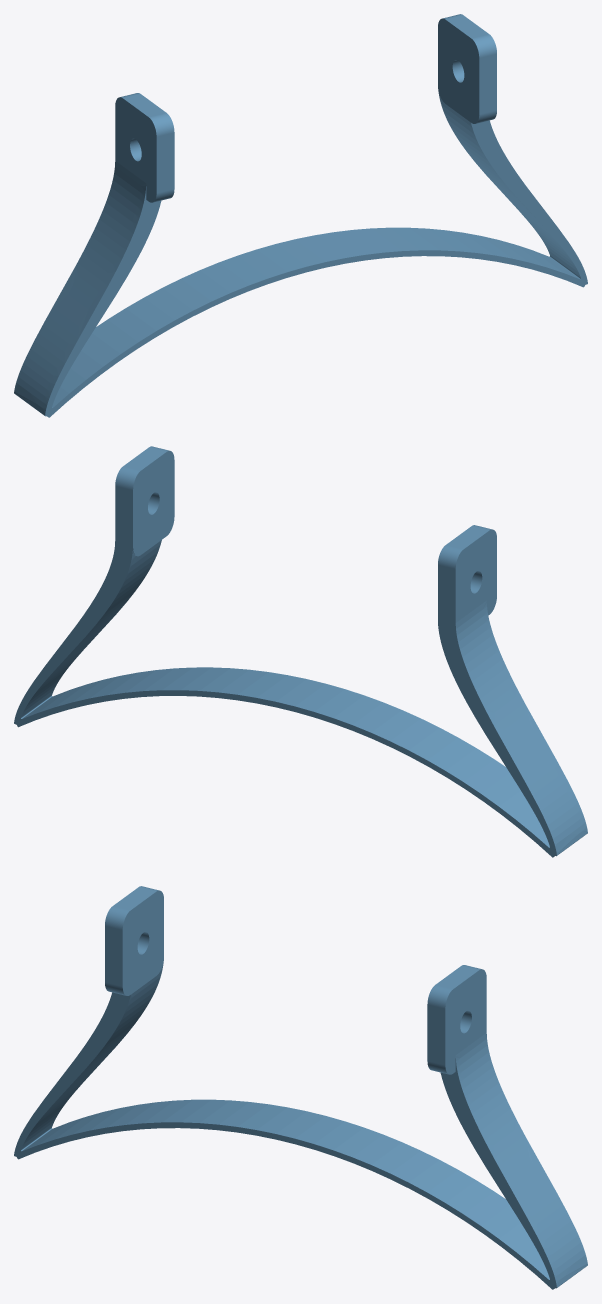
The model's file is BOZZA_R03_NON_USO.glb.
The picture shows the model from 3 angles, top to bottom: view 1: azimuth 30°, elevation 25°; view 2: azimuth 150°, elevation 25°; view 3: azimuth 330°, elevation 25°; orthographic projection.
Visible parts, largest first — view 1: BOZZA_R03_NON_USO.stl; view 2: BOZZA_R03_NON_USO.stl; view 3: BOZZA_R03_NON_USO.stl.
Boxes of the visible parts, x1=… form: BOZZA_R03_NON_USO.stl: x1=14, y1=14, x2=587, y2=417; BOZZA_R03_NON_USO.stl: x1=14, y1=446, x2=587, y2=857; BOZZA_R03_NON_USO.stl: x1=14, y1=886, x2=587, y2=1289.
Size of the model in its own units: 0.1212 by 0.0594 by 0.016.
